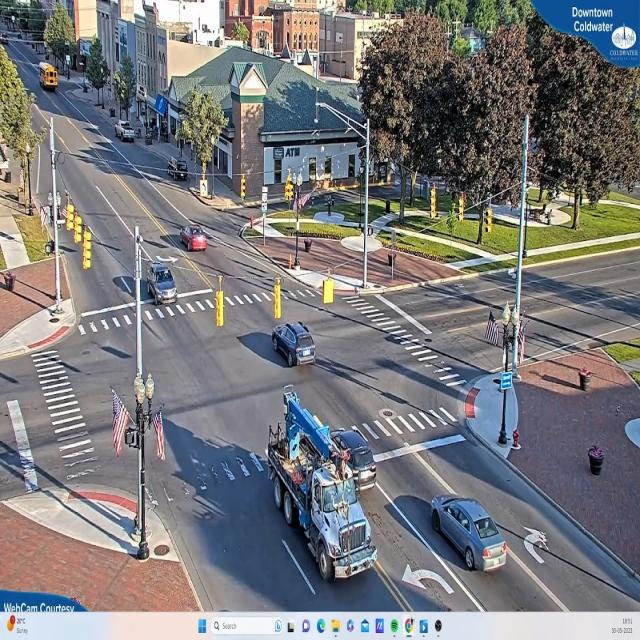bus: (41, 61, 60, 90)
car: (429, 495, 508, 574), (332, 426, 383, 479), (272, 321, 317, 367), (149, 258, 179, 305), (180, 224, 209, 252), (117, 122, 137, 145)
truck: (270, 387, 375, 588)
